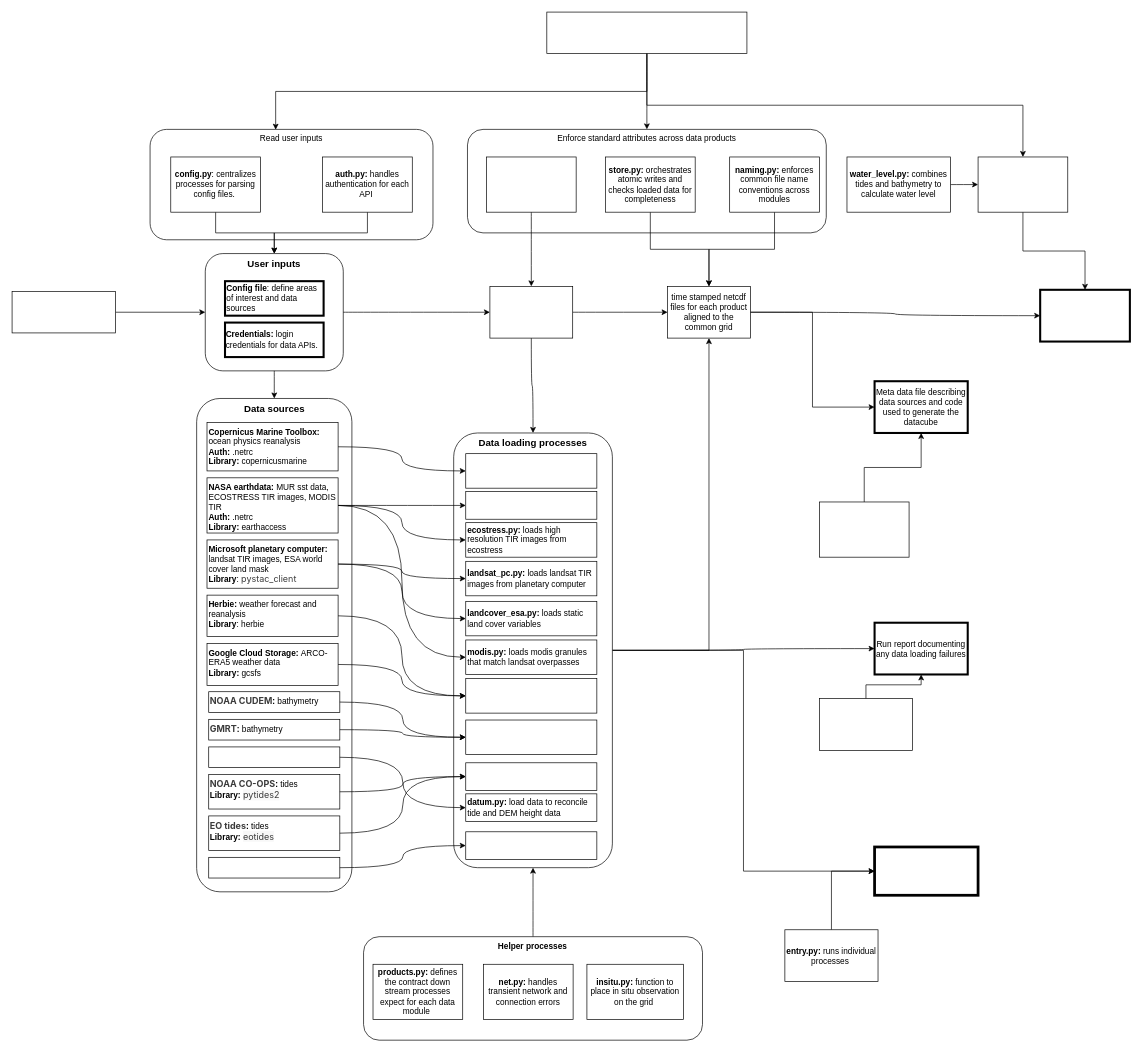
The diagram is 1143 pixels wide and 1058 high, and some of its shapes have lost their labels. Each missing label, with the centre of its shape:
Aligned files stored in common Zarr datacube: the point at 1085,315
bathymetry.py: loads bathymetry and DEMs: the point at 531,737
cli.py : build the command line interface to run package functions: the point at 63,312
cmems.py: loads ocean physics reanalysis from copernicus marine: the point at 531,470
datacube.py: knits each data product into one Zarr per AoI: the point at 1022,184
grid.py : defines a common grid for each data product: the point at 531,184
Grids defined for each AoI: the point at 531,312
insitu_ioos.py: loads in situ measurements: the point at 531,845
IOOS ERDDAP : in situ SST: the point at 274,867
met.py: loads atmospheric forcing that matches overpasses: the point at 531,695
mur.py: loads level 4 sst data from NASA: the point at 531,505
NOAA VDatum : tide DEM fusion: the point at 274,757
pipeline.py : Orchestrates data loading, grid alignment and assembly processes: the point at 646,32
provenance.py: tracks when each data product is loaded for reproducibility: the point at 864,529
report.py: orchestrates reporting for each data loading process: the point at 866,724
Standalone time stamped netcdf files for one product: the point at 926,870
tides.py: calculates tides from harmonic constituents: the point at 531,776
